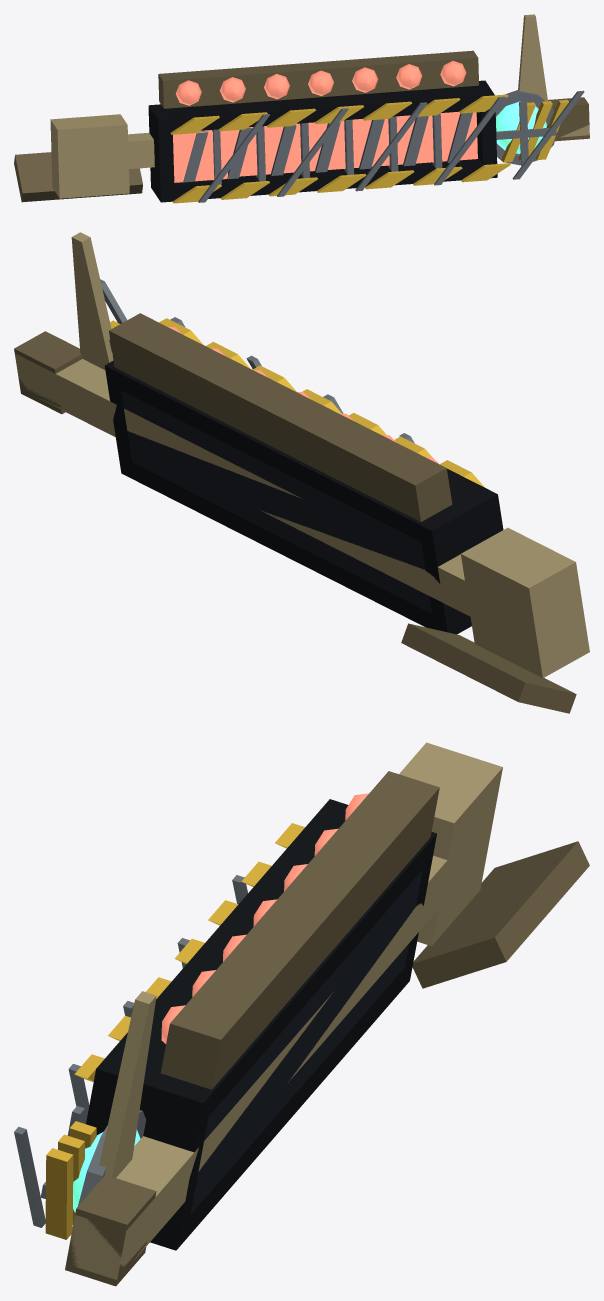
Rendered from mast.glb.
3 views of the same model, one above another, from view 1: azimuth 30°, elevation 25°; view 2: azimuth 150°, elevation 25°; view 3: azimuth 270°, elevation 25° (orthographic). The views are drawn at different scales.
Parts seen in each view (by area): view 1: ipm_mast_lampbar, ipm_mast_collar, ipm_mast_bezel_t, ipm_mast_bezel_b, ipm_mast_foot, ipm_mast_sweep, ipm_mast_vane, ipm_mast_bezel_l, ipm_mast_seg_2, ipm_mast_rod, ipm_mast_seg_4, ipm_mast_seg_6 (+51 smaller); view 2: ipm_mast_lampbar, ipm_mast_bore, ipm_mast_collar, ipm_mast_rod, ipm_mast_bezel_t, ipm_mast_bezel_b, ipm_mast_foot, ipm_mast_bezel_l, ipm_mast_vane, ipm_mast_knob, ipm_mast_bezel_r; view 3: ipm_mast_lampbar, ipm_mast_bezel_t, ipm_mast_bore, ipm_mast_rod, ipm_mast_foot, ipm_mast_collar, ipm_mast_bezel_r, ipm_mast_vane, ipm_mast_bezel_b, ipm_mast_knob, ipm_mast_capstripe_2, ipm_mast_scrim_4 (+2 smaller).
Part boxes in pixels (left/top/right/bottom): ipm_mast_lampbar: left=158, top=50, right=478, bottom=108; ipm_mast_collar: left=50, top=114, right=129, bottom=198; ipm_mast_bezel_t: left=149, top=81, right=494, bottom=133; ipm_mast_bezel_b: left=153, top=157, right=483, bottom=202; ipm_mast_foot: left=14, top=152, right=142, bottom=202; ipm_mast_sweep: left=173, top=130, right=227, bottom=182; ipm_mast_vane: left=518, top=14, right=547, bottom=125; ipm_mast_bezel_l: left=148, top=105, right=174, bottom=202; ipm_mast_seg_2: left=264, top=123, right=301, bottom=174; ipm_mast_rod: left=128, top=117, right=589, bottom=168; ipm_mast_seg_4: left=352, top=119, right=389, bottom=167; ipm_mast_seg_6: left=440, top=111, right=477, bottom=161; ipm_mast_lampbar: left=109, top=313, right=452, bottom=521; ipm_mast_bore: left=121, top=390, right=432, bottom=613; ipm_mast_collar: left=461, top=527, right=589, bottom=677; ipm_mast_rod: left=14, top=353, right=470, bottom=616; ipm_mast_bezel_t: left=105, top=361, right=491, bottom=541; ipm_mast_bezel_b: left=121, top=462, right=471, bottom=634; ipm_mast_foot: left=401, top=623, right=576, bottom=713; ipm_mast_bezel_l: left=418, top=487, right=503, bottom=633; ipm_mast_vane: left=71, top=232, right=113, bottom=369; ipm_mast_knob: left=14, top=331, right=82, bottom=414; ipm_mast_bezel_r: left=104, top=360, right=132, bottom=473; ipm_mast_lampbar: left=161, top=771, right=439, bottom=1089; ipm_mast_bezel_t: left=91, top=800, right=436, bottom=1127; ipm_mast_bore: left=190, top=869, right=422, bottom=1214; ipm_mast_rod: left=70, top=855, right=447, bottom=1279; ipm_mast_foot: left=412, top=841, right=589, bottom=988; ipm_mast_collar: left=399, top=742, right=502, bottom=945; ipm_mast_bezel_r: left=86, top=1057, right=212, bottom=1249; ipm_mast_vane: left=99, top=991, right=156, bottom=1178; ipm_mast_bezel_b: left=150, top=968, right=409, bottom=1250; ipm_mast_knob: left=65, top=1176, right=156, bottom=1286; ipm_mast_capstripe_2: left=45, top=1148, right=73, bottom=1239; ipm_mast_scrim_4: left=14, top=1126, right=45, bottom=1227.
Bounding box in the file's own units: 0.2081 × 0.0642 × 0.1113.
